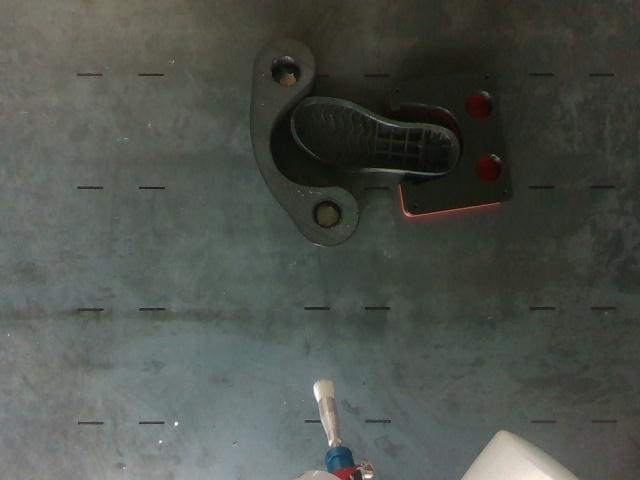shoes: (294, 100, 457, 173)
